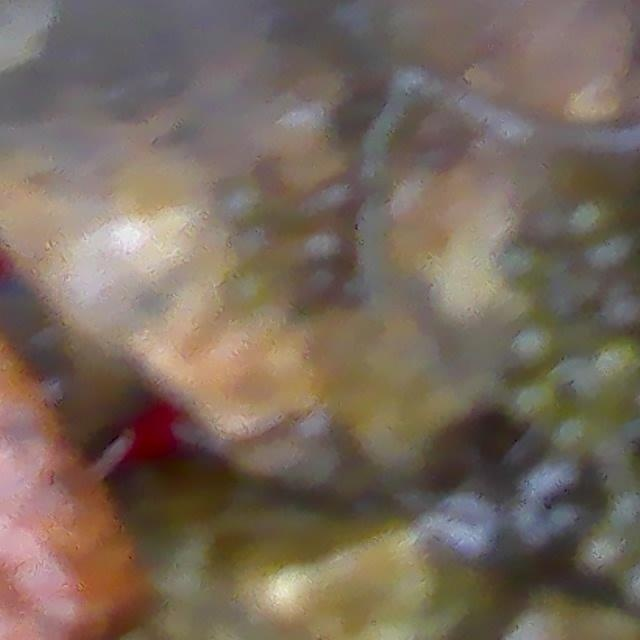SeaGrape: (291, 264, 350, 317), (599, 287, 640, 341), (306, 233, 366, 266)
